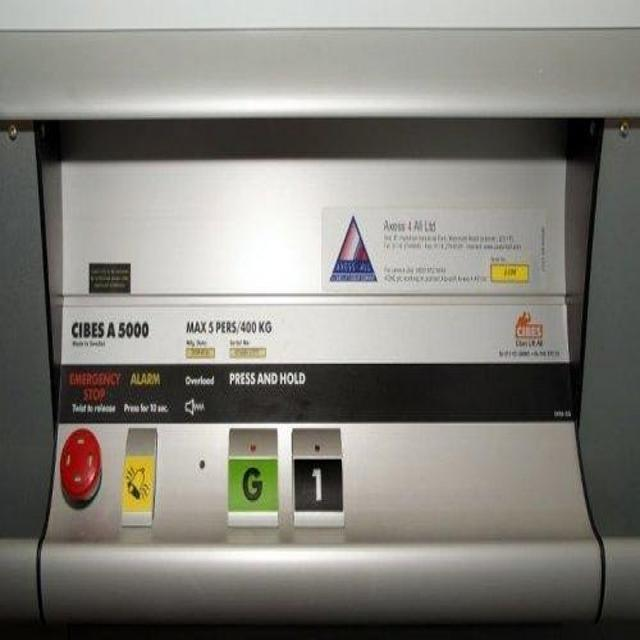1: (289, 424, 346, 529)
G: (223, 424, 280, 529)
alarm: (117, 423, 158, 529)
empty: (56, 422, 104, 510)
